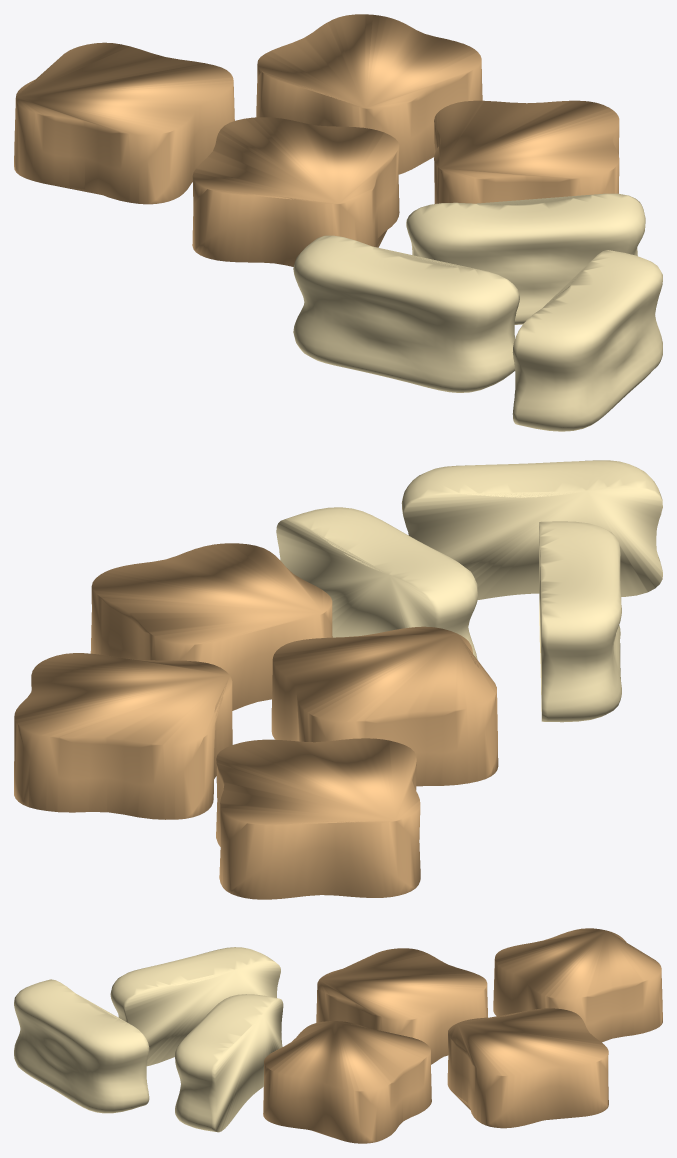
File: cuttofu.fbx
The picture shows the model from 3 angles, top to bottom: view 1: azimuth 30°, elevation 25°; view 2: azimuth 150°, elevation 25°; view 3: azimuth 270°, elevation 25°; orthographic projection. The views are drawn at different scales.
Visible parts, largest first — view 1: Sphere.097, Sphere.099; view 2: Sphere.097, Sphere.099; view 3: Sphere.097, Sphere.099.
Part boxes in pixels (<box>): Sphere.097: <box>14,14,619,266</box>; Sphere.099: <box>293,193,662,431</box>; Sphere.097: <box>14,543,498,899</box>; Sphere.099: <box>276,460,662,722</box>; Sphere.097: <box>263,928,662,1143</box>; Sphere.099: <box>14,947,283,1132</box>.
Bounding box in the file's own units: 208 × 46.73 × 349.
